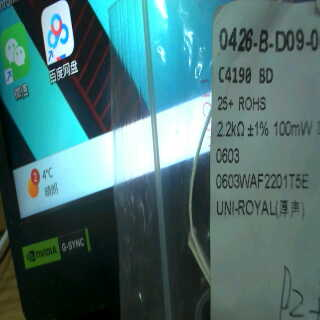2.2kR: (213, 118, 247, 141)
